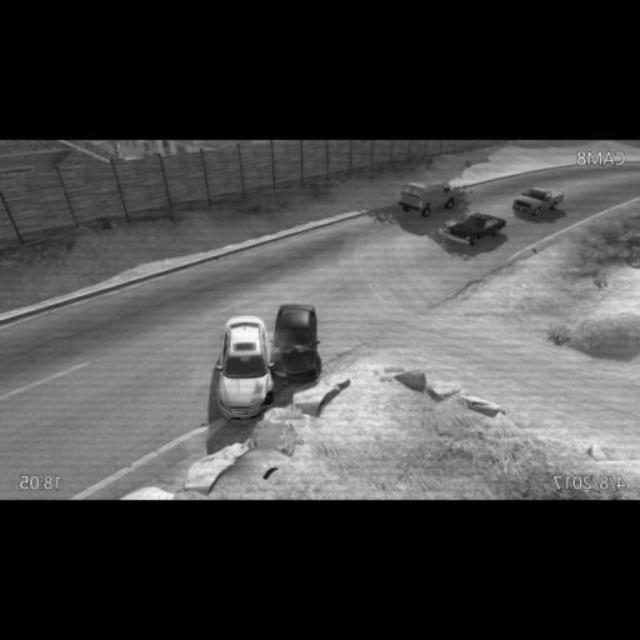accident: (220, 308, 314, 421)
vehicle: (440, 210, 507, 250), (394, 177, 464, 215), (515, 177, 560, 221)
